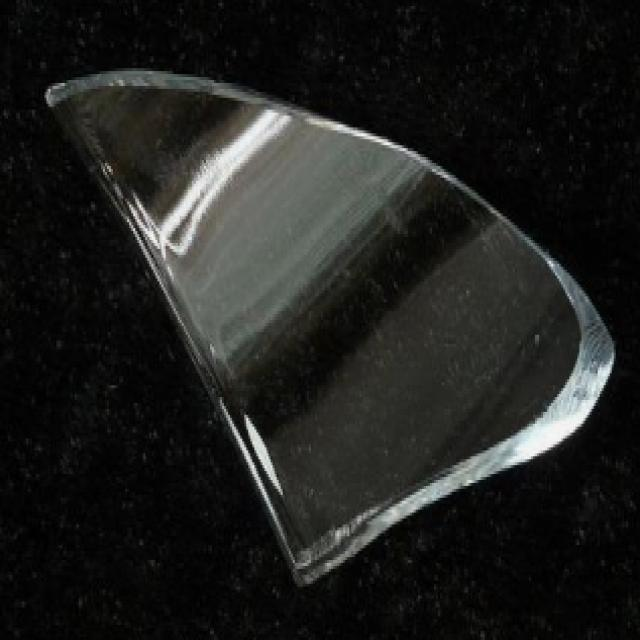PecahanKaca: (42, 62, 616, 590)
